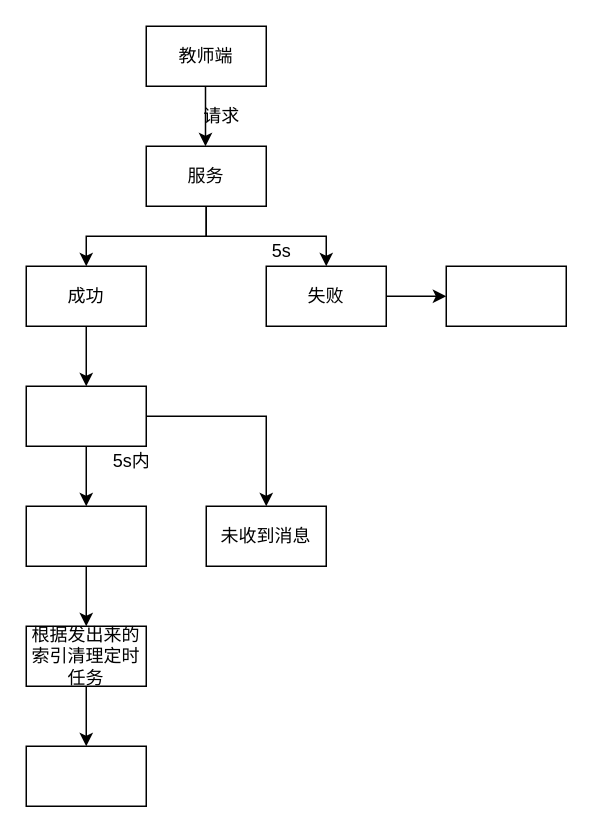
This 593x833 diagram has some shape labels left out. Each missing label, with the centre of its shape:
创建定时任务等待RC返回: point (85, 415)
显示发送请求 超时: point (505, 295)
等到消息: point (85, 535)
